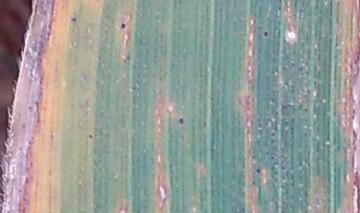tarspot: (119, 22, 128, 30), (254, 166, 262, 174), (262, 30, 270, 38), (178, 116, 185, 125), (88, 131, 95, 139), (48, 167, 53, 177), (71, 17, 78, 24), (277, 6, 284, 13), (203, 121, 209, 129)
